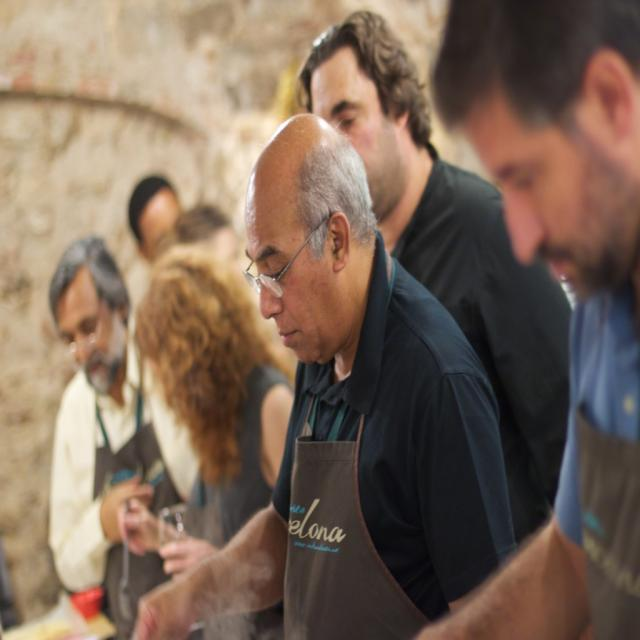Glasses: (244, 242, 330, 290), (57, 298, 107, 355)
